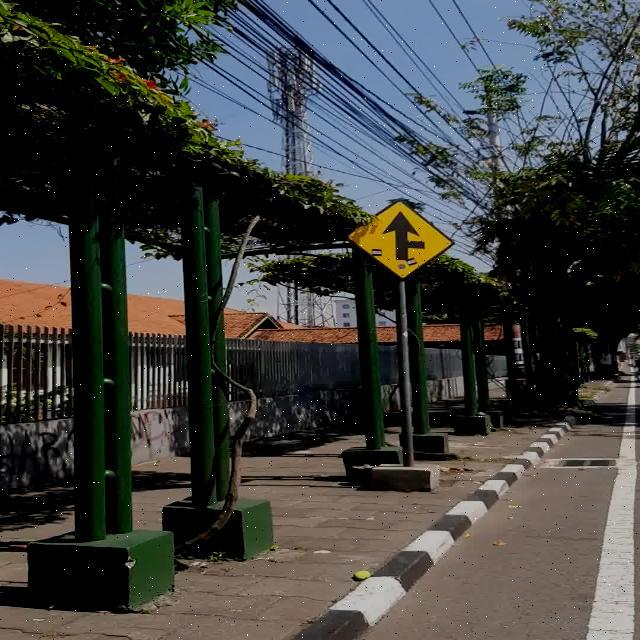Persimpangan 3 Prioritas Kanan: (345, 200, 455, 280)
